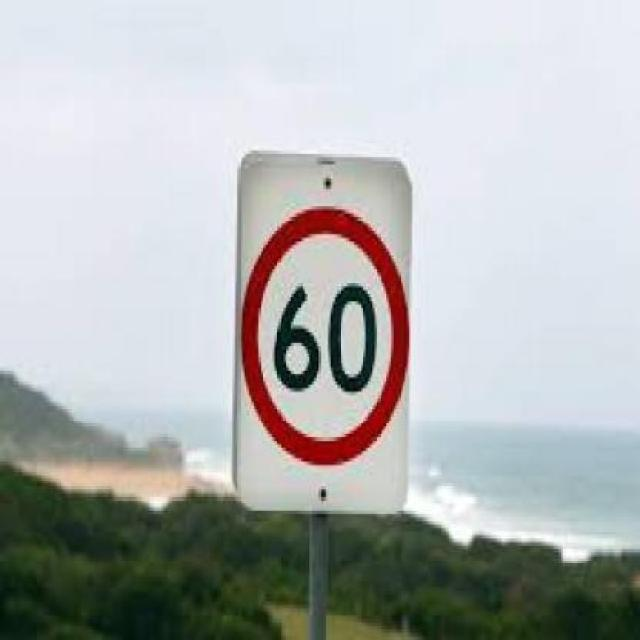forb_speed_over_60: (252, 212, 403, 459)
